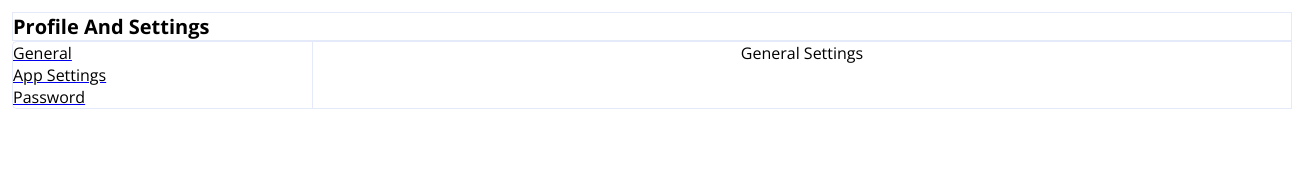
Test: Password Settings should only be visible after clicking the link
Expected: the text "Password Settings" is not shown
Click the menu item "Password": (49, 97) [13, 86, 85, 108]
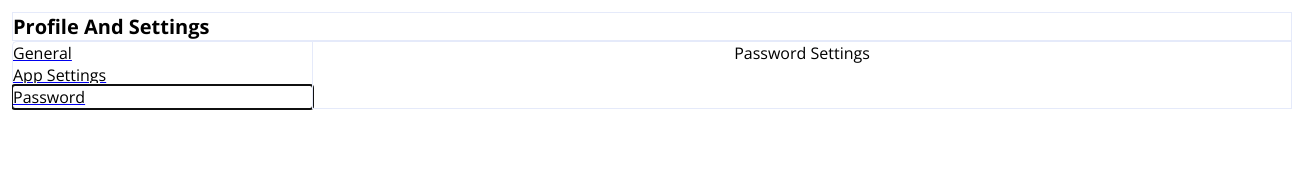
Now the text "Password Settings" is shown, box [734, 42, 870, 64]
